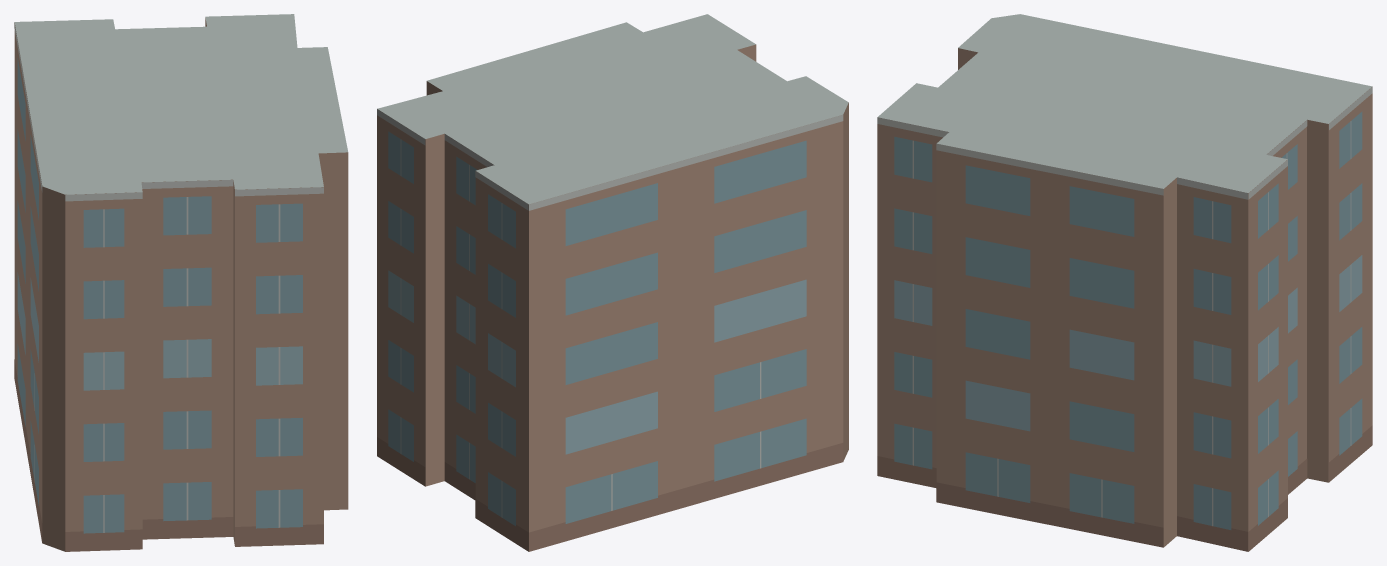
File: survey-upis-32840949.glb
3 renders of one model, left to right at view 1: azimuth 30°, elevation 25°; view 2: azimuth 150°, elevation 25°; view 3: azimuth 270°, elevation 25°, orthographic. The views are drawn at different scales.
Parts seen in each view (by area): view 1: survey-upis-32840949.tmp; view 2: survey-upis-32840949.tmp; view 3: survey-upis-32840949.tmp.
Boxes of the visible parts, x1,y1,x2,y2 form: survey-upis-32840949.tmp: (14, 14, 348, 551); survey-upis-32840949.tmp: (377, 14, 848, 551); survey-upis-32840949.tmp: (877, 14, 1372, 551).
Bounding box in the file's own units: 14.04 × 13.1 × 16.4.
